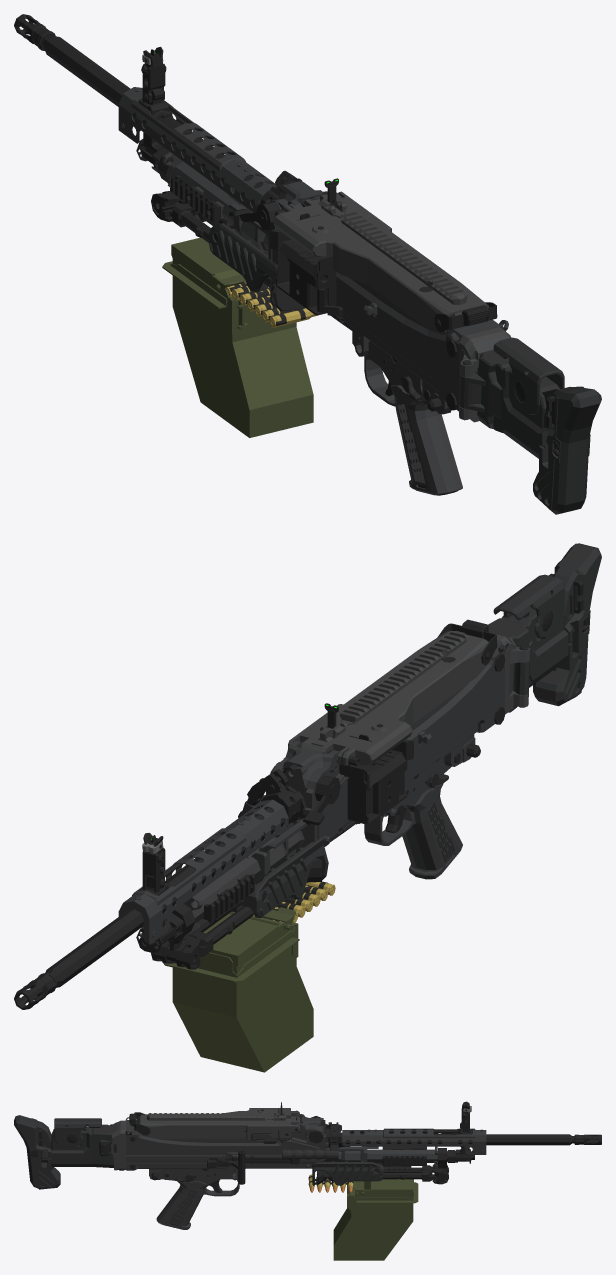
3 renders of one model, top to bottom at view 1: azimuth 30°, elevation 25°; view 2: azimuth 150°, elevation 25°; view 3: azimuth 270°, elevation 25°, orthographic. The views are drawn at different scales.
Parts seen in each view (by area): view 1: mg5 receiver_5, mg5 100rnd ammo box_20, mg5 cover_17, mg5 21in barrel_4, mg5 stock butt_16, mg5 stock base_14, mg5 handguard_8, mg5 stock cheek_15, mg5 bipod_21, mg5 front iron sight_7, mg5 flash hider_6; view 2: mg5 receiver_5, mg5 100rnd ammo box_20, mg5 cover_17, mg5 21in barrel_4, mg5 stock butt_16, mg5 stock base_14, mg5 bipod_21, mg5 handguard_8, mg5 stock cheek_15, mg5 front iron sight_7, mg5 flash hider_6; view 3: mg5 receiver_5, mg5 100rnd ammo box_20, mg5 21in barrel_4, mg5 cover_17, mg5 stock butt_16, mg5 stock base_14, mg5 handguard_8, mg5 bipod_21, mg5 stock cheek_15, mg5 charging handle_12, mg5 flash hider_6, mg5 front iron sight_7.
Part boxes in pixels (x1,y1,x2,y2): mg5 receiver_5: [162, 152, 511, 495]; mg5 100rnd ammo box_20: [162, 237, 317, 437]; mg5 cover_17: [273, 191, 497, 334]; mg5 21in barrel_4: [42, 35, 302, 212]; mg5 stock butt_16: [533, 386, 601, 514]; mg5 stock base_14: [459, 350, 559, 458]; mg5 handguard_8: [209, 223, 304, 311]; mg5 stock cheek_15: [493, 337, 564, 414]; mg5 bipod_21: [151, 151, 275, 306]; mg5 front iron sight_7: [141, 46, 166, 103]; mg5 flash hider_6: [14, 14, 55, 50]; mg5 receiver_5: [181, 632, 530, 934]; mg5 100rnd ammo box_20: [163, 881, 335, 1072]; mg5 cover_17: [288, 619, 497, 765]; mg5 21in barrel_4: [31, 769, 306, 996]; mg5 stock butt_16: [533, 543, 601, 706]; mg5 stock base_14: [488, 607, 568, 707]; mg5 bipod_21: [151, 858, 321, 969]; mg5 handguard_8: [230, 836, 328, 917]; mg5 stock cheek_15: [493, 574, 564, 638]; mg5 front iron sight_7: [142, 833, 165, 892]; mg5 flash hider_6: [14, 972, 57, 1009]; mg5 receiver_5: [109, 1114, 447, 1229]; mg5 100rnd ammo box_20: [308, 1174, 418, 1260]; mg5 21in barrel_4: [282, 1122, 574, 1163]; mg5 cover_17: [129, 1108, 299, 1139]; mg5 stock butt_16: [14, 1115, 60, 1189]; mg5 stock base_14: [51, 1124, 117, 1167]; mg5 handguard_8: [312, 1161, 383, 1185]; mg5 bipod_21: [317, 1148, 448, 1184]; mg5 stock cheek_15: [54, 1118, 101, 1146]; mg5 charging handle_12: [207, 1150, 300, 1184]; mg5 flash hider_6: [574, 1134, 601, 1144]; mg5 front iron sight_7: [461, 1101, 471, 1132].
Bounding box in the file's own units: 0.1358 × 0.3354 × 1.2.
